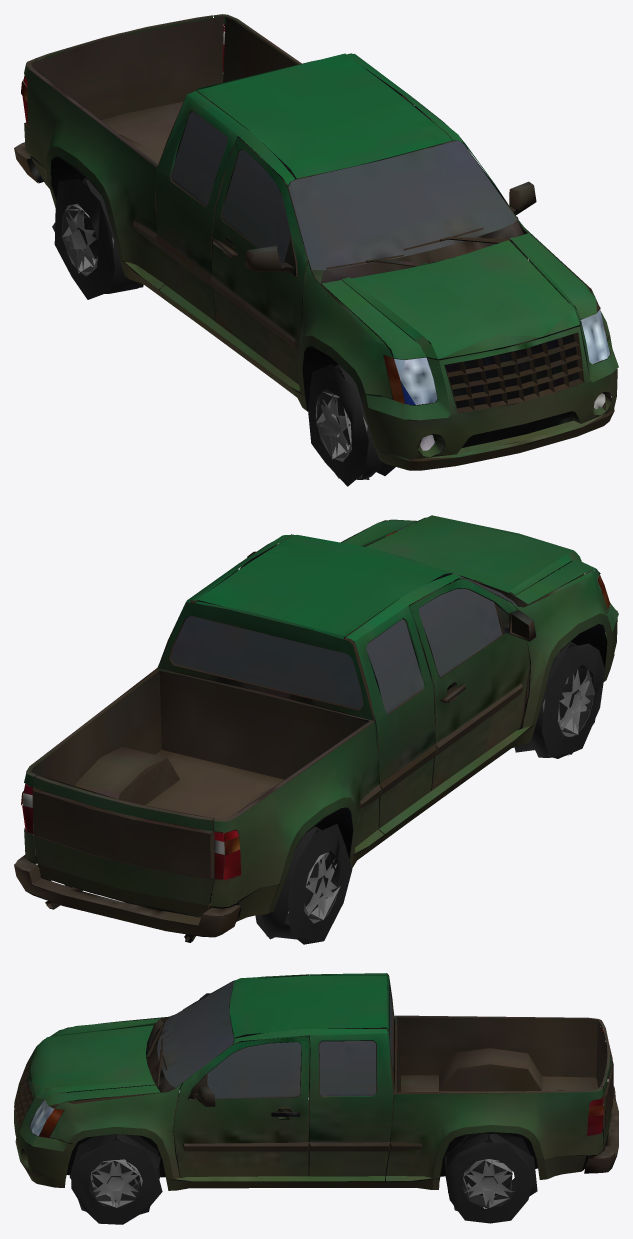
File: pack-pickup-L2.glb
3 views of the same model, one above another, from view 1: azimuth 30°, elevation 25°; view 2: azimuth 150°, elevation 25°; view 3: azimuth 270°, elevation 25° (orthographic). The views are drawn at different scales.
Parts seen in each view (by area): view 1: body, wheel-back-left, wheel-front-left, wheel-front-left.1, wheel-back-left.1; view 2: body, wheel-back-left, wheel-front-left, wheel-front-left.1, wheel-back-left.1; view 3: body, wheel-back-right, wheel-front-right, wheel-front-right.1, wheel-back-right.1.
Boxes of the visible parts, bbox=[...] form: body: bbox=[14, 14, 618, 470]; wheel-back-left: bbox=[52, 178, 143, 299]; wheel-front-left: bbox=[308, 364, 395, 486]; wheel-front-left.1: bbox=[316, 391, 367, 461]; wheel-back-left.1: bbox=[62, 204, 113, 275]; body: bbox=[14, 515, 618, 942]; wheel-back-left: bbox=[255, 824, 352, 944]; wheel-front-left: bbox=[514, 641, 605, 758]; wheel-front-left.1: bbox=[542, 668, 595, 736]; wheel-back-left.1: bbox=[288, 852, 340, 923]; body: bbox=[14, 973, 618, 1190]; wheel-back-right: bbox=[444, 1133, 537, 1223]; wheel-front-right: bbox=[69, 1134, 162, 1224]; wheel-front-right.1: bbox=[90, 1159, 142, 1207]; wheel-back-right.1: bbox=[463, 1159, 514, 1207].
Size of the model in its own units: 2.07 by 1.76 by 5.18.
Materials: 3 (1 with a texture image).
